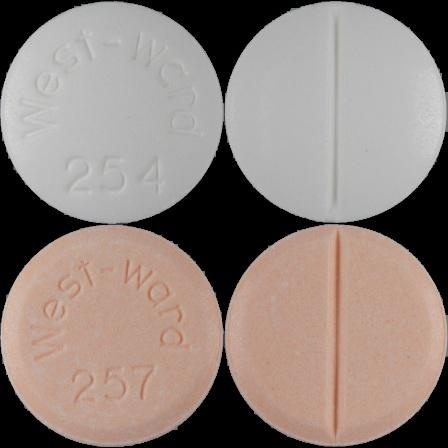0143-1254: (0, 0, 224, 224)
